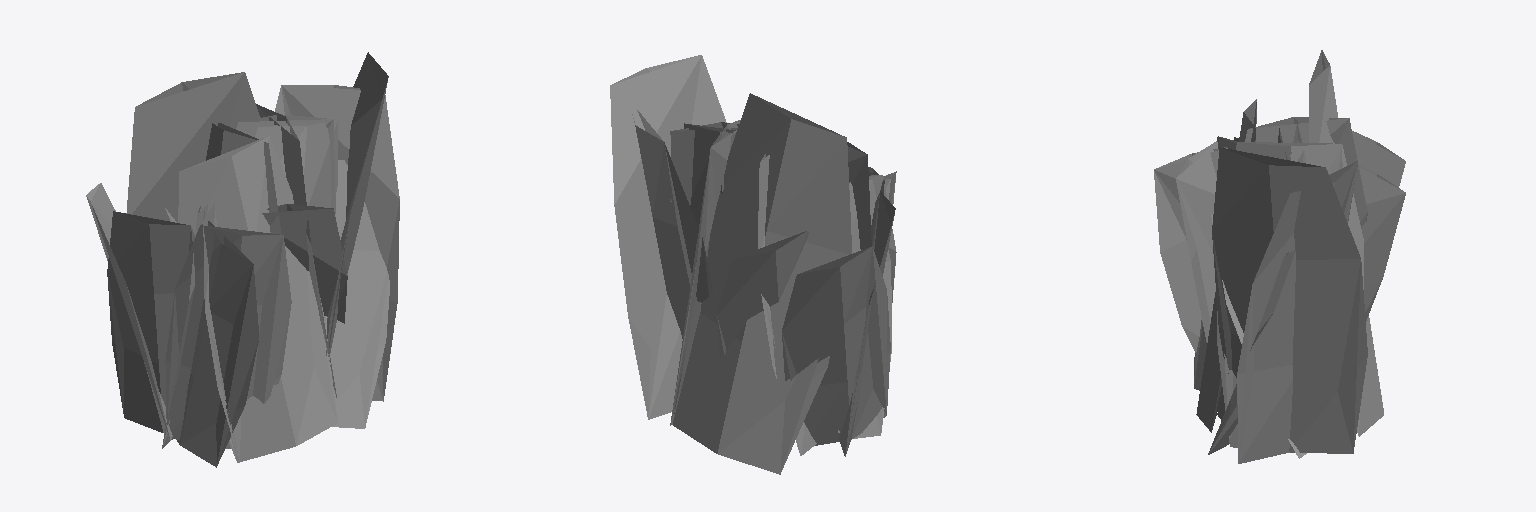
The model's file is WaterReeds_blend.obj.
3 views of the same model, side by side, from view 1: azimuth 30°, elevation 25°; view 2: azimuth 150°, elevation 25°; view 3: azimuth 270°, elevation 25° (orthographic).
Visible parts, largest first — view 1: Untitled_WaterReedsOne200, Untitled.001_WaterReedsOne100; view 2: Untitled_WaterReedsOne200, Untitled.001_WaterReedsOne100; view 3: Untitled_WaterReedsOne200, Untitled.001_WaterReedsOne100.
Part boxes in pixels (left/top/right/bottom): Untitled_WaterReedsOne200: left=86, top=52, right=399, bottom=467; Untitled.001_WaterReedsOne100: left=91, top=53, right=399, bottom=464; Untitled_WaterReedsOne200: left=612, top=55, right=896, bottom=474; Untitled.001_WaterReedsOne100: left=610, top=55, right=896, bottom=473; Untitled_WaterReedsOne200: left=1154, top=50, right=1403, bottom=463; Untitled.001_WaterReedsOne100: left=1154, top=50, right=1405, bottom=462.
Size of the model in its own units: 1.47 by 1.8 by 1.19.